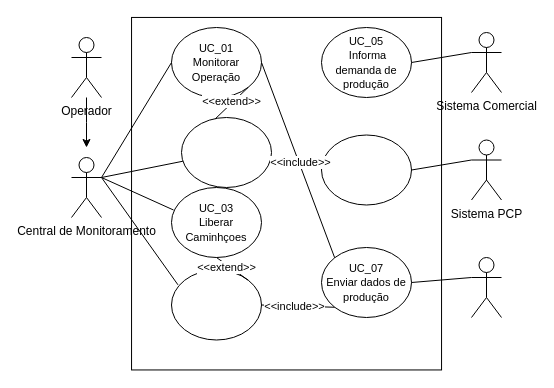
Some shapes in this 554 by 388 pixel diagram are drawn without their labels. The shapes that lost their labels are listed below. From the top down, each one's centre as x and y in pixels, then its label:
At (x=226, y=152): "UC_02 Reverter Operação".
At (x=366, y=169): "UC_06 Enviar ordens de produção".
At (x=216, y=304): "UC_04 Gerar Relatórios".
At (x=486, y=287): "Sensores".
